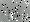person: (6, 10, 13, 21)
